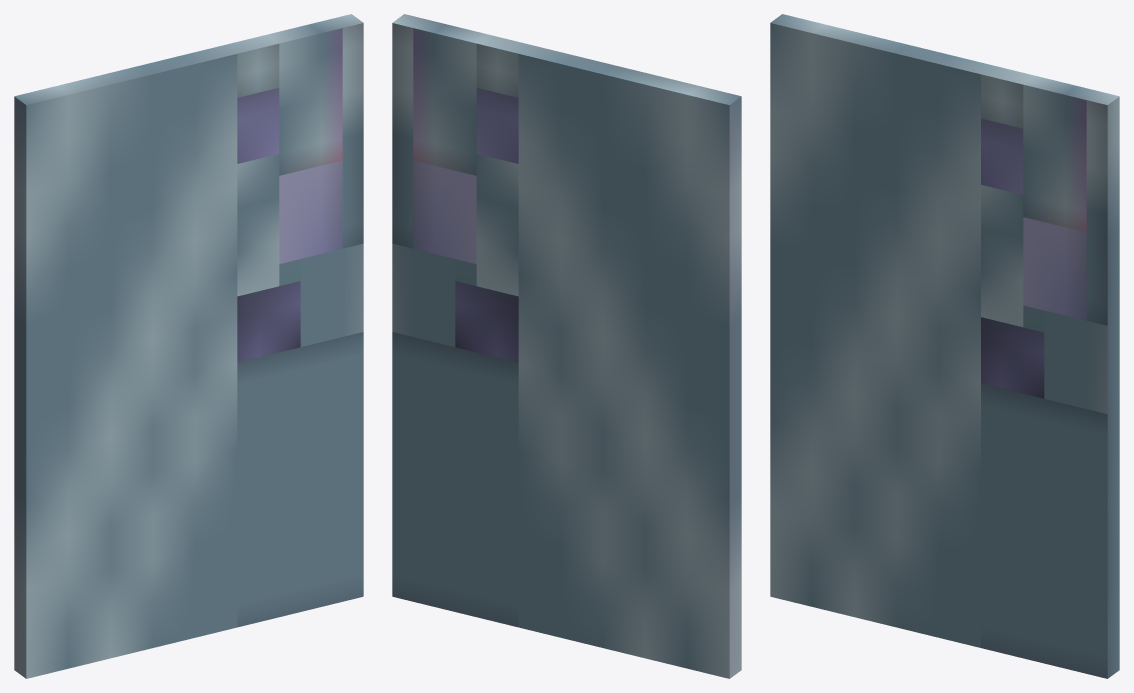
The model's file is Machine_DrinkDispenser_Glass_00.fbx.
3 views of the same model, side by side, from view 1: azimuth 30°, elevation 25°; view 2: azimuth 150°, elevation 25°; view 3: azimuth 330°, elevation 25° (orthographic).
Parts seen in each view (by area): view 1: Machine_DrinkDispenser_Glass_00; view 2: Machine_DrinkDispenser_Glass_00; view 3: Machine_DrinkDispenser_Glass_00.
Part boxes in pixels (x1,y1,x2,y2): Machine_DrinkDispenser_Glass_00: [14, 14, 363, 678]; Machine_DrinkDispenser_Glass_00: [392, 14, 741, 678]; Machine_DrinkDispenser_Glass_00: [770, 14, 1119, 678].
Bounding box in the file's own units: 80 × 130 × 5.
